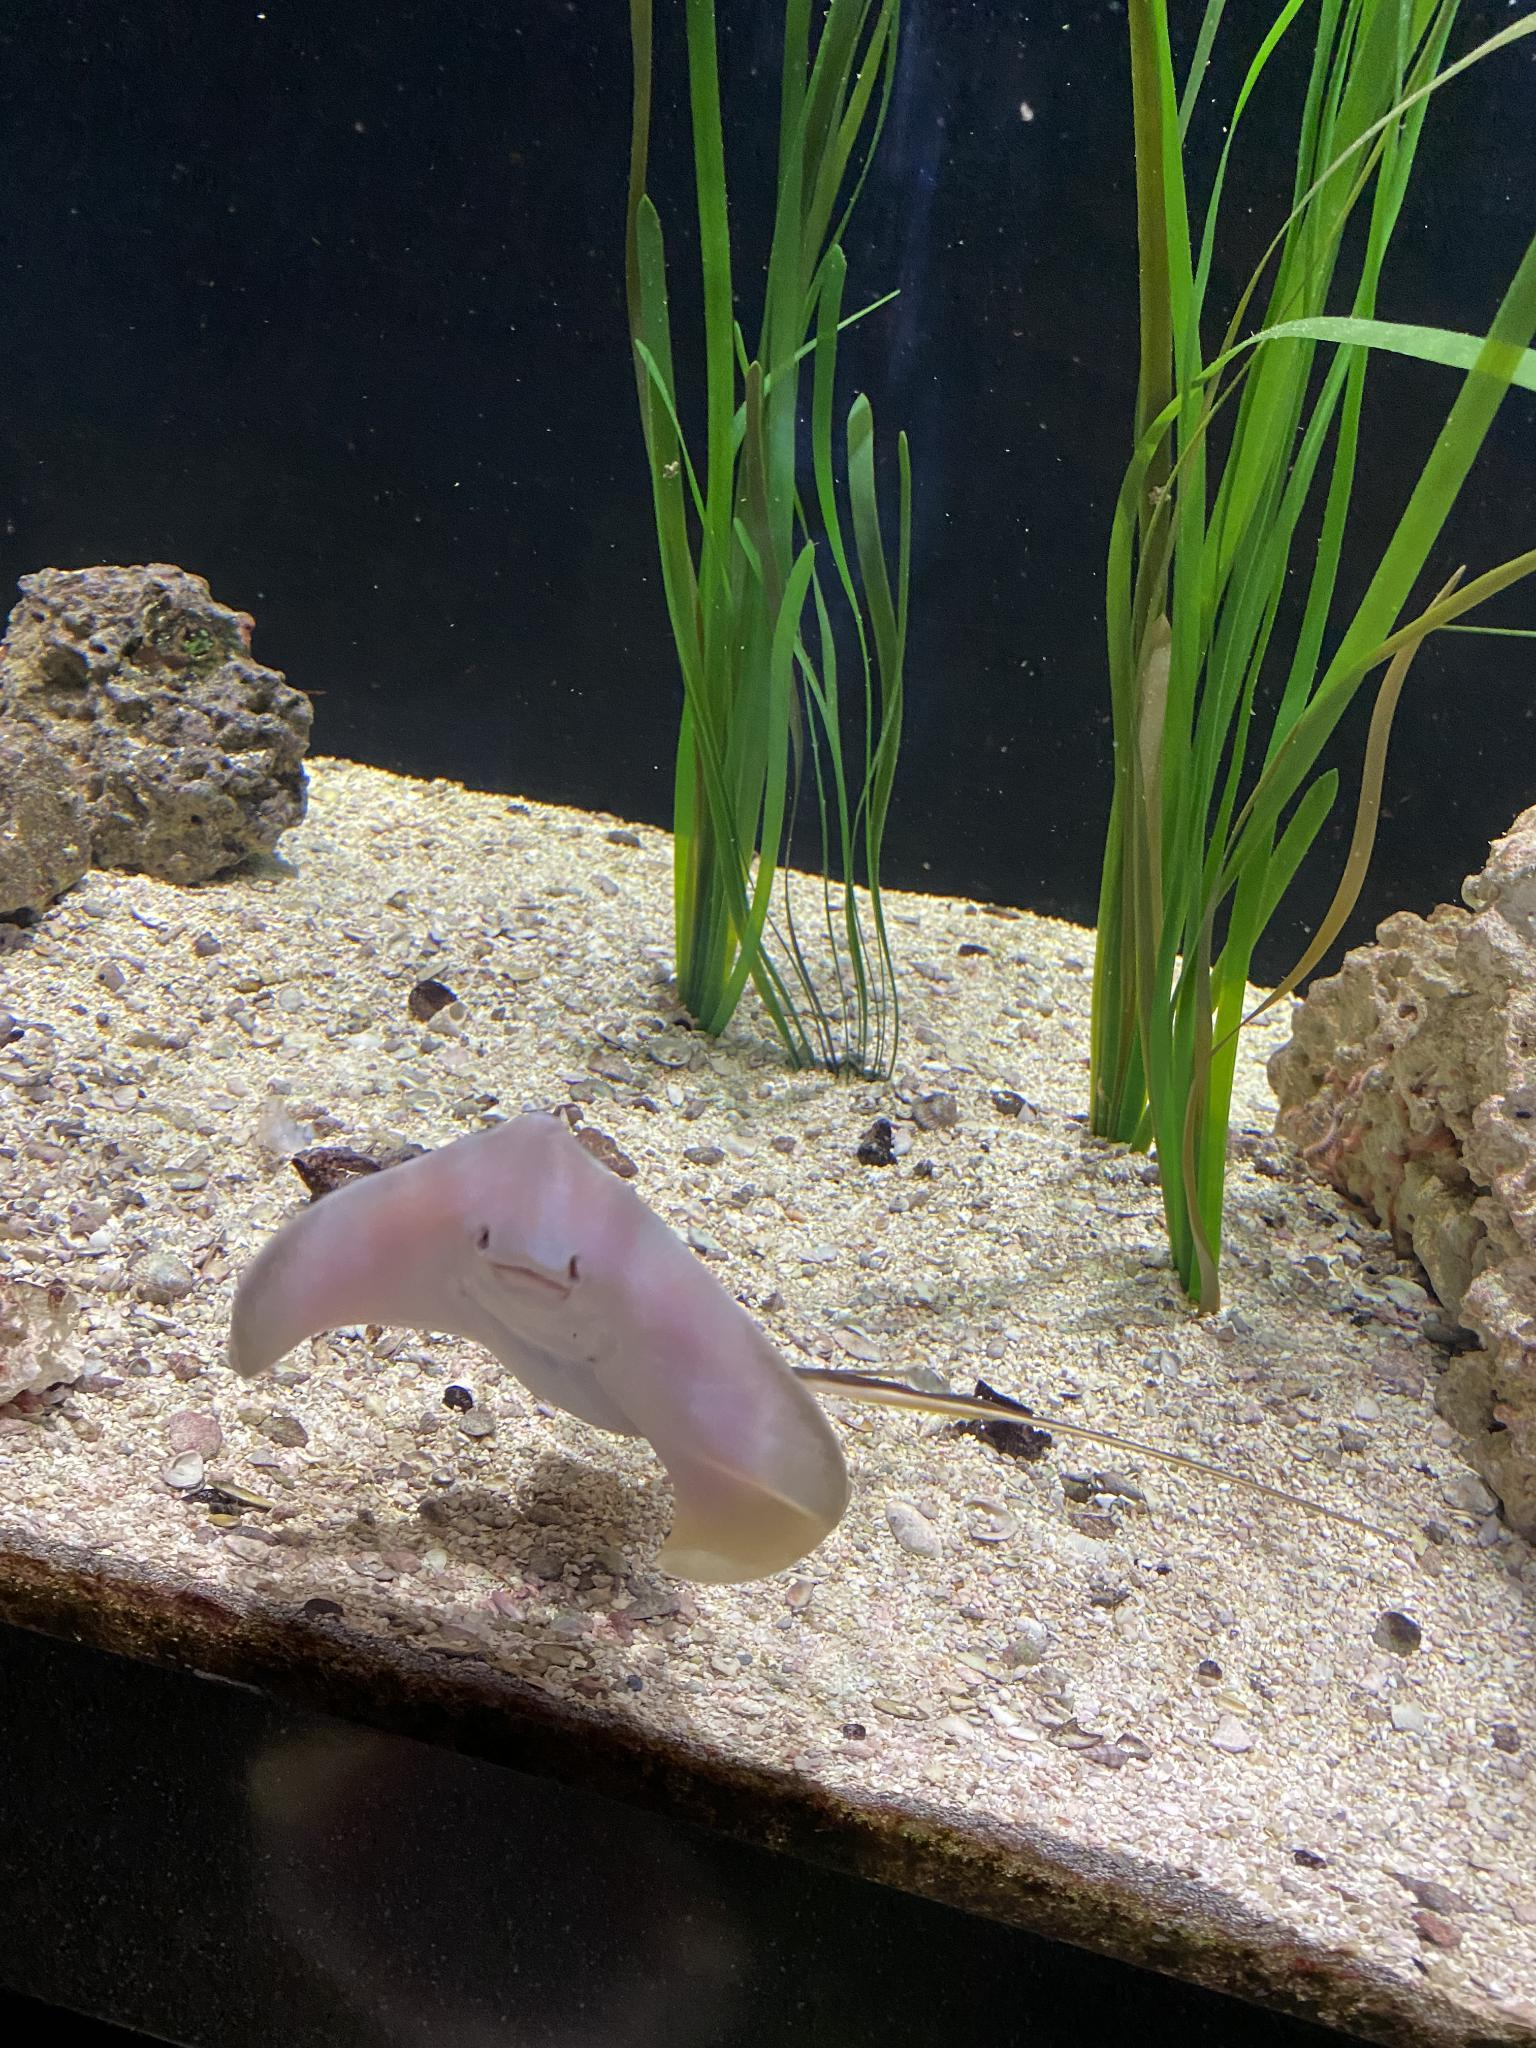stingray: (227, 1113, 850, 1582)
